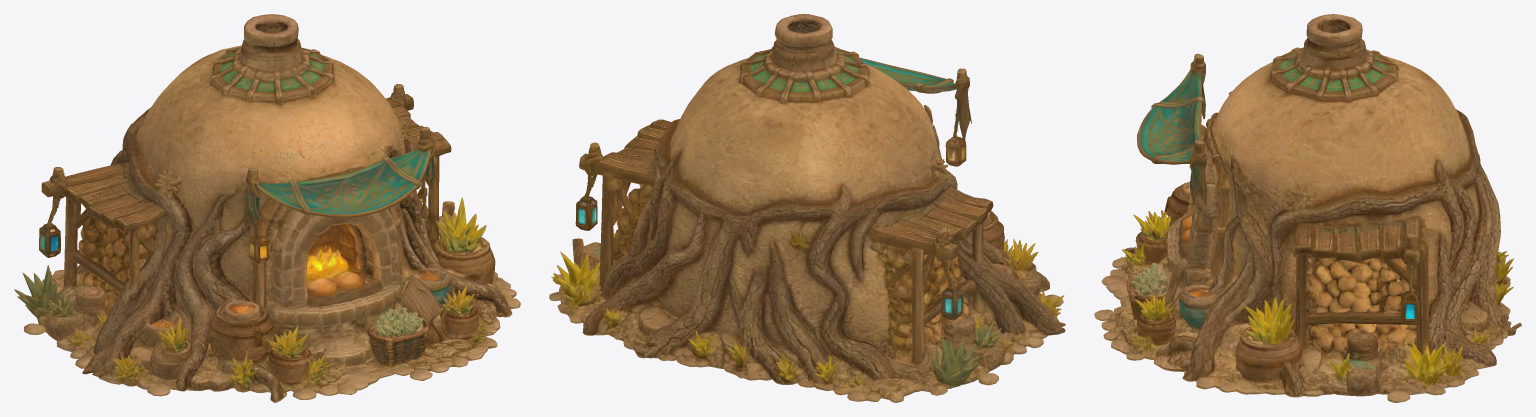
File: communal-oven.glb
3 renders of one model, left to right at view 1: azimuth 30°, elevation 25°; view 2: azimuth 150°, elevation 25°; view 3: azimuth 270°, elevation 25°, orthographic. The views are drawn at different scales.
Size of the model in its own units: 1.9 by 1.16 by 1.62.
1 material, 1 textured.
